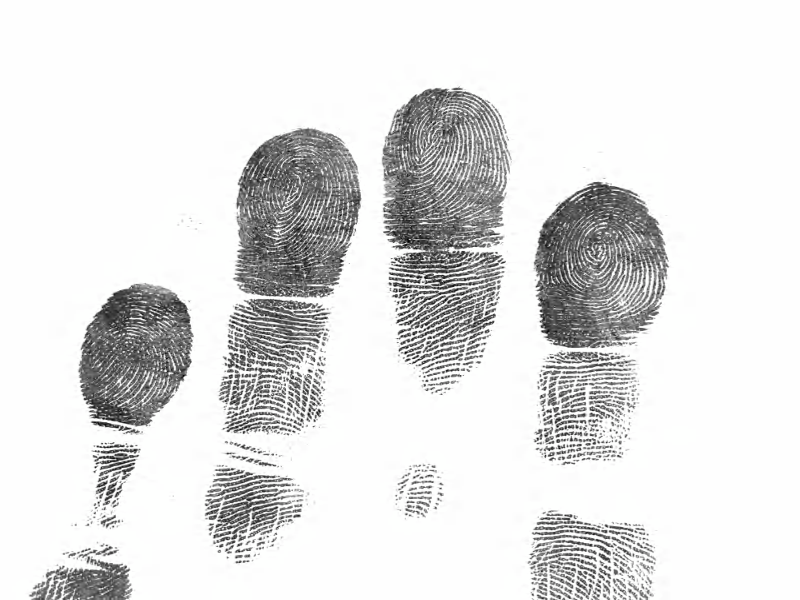distal: (522, 166, 677, 354), (225, 118, 365, 306), (377, 79, 513, 251), (72, 275, 200, 430)
proximal: (376, 247, 508, 411), (219, 291, 336, 449), (529, 348, 656, 480), (56, 427, 170, 557)
